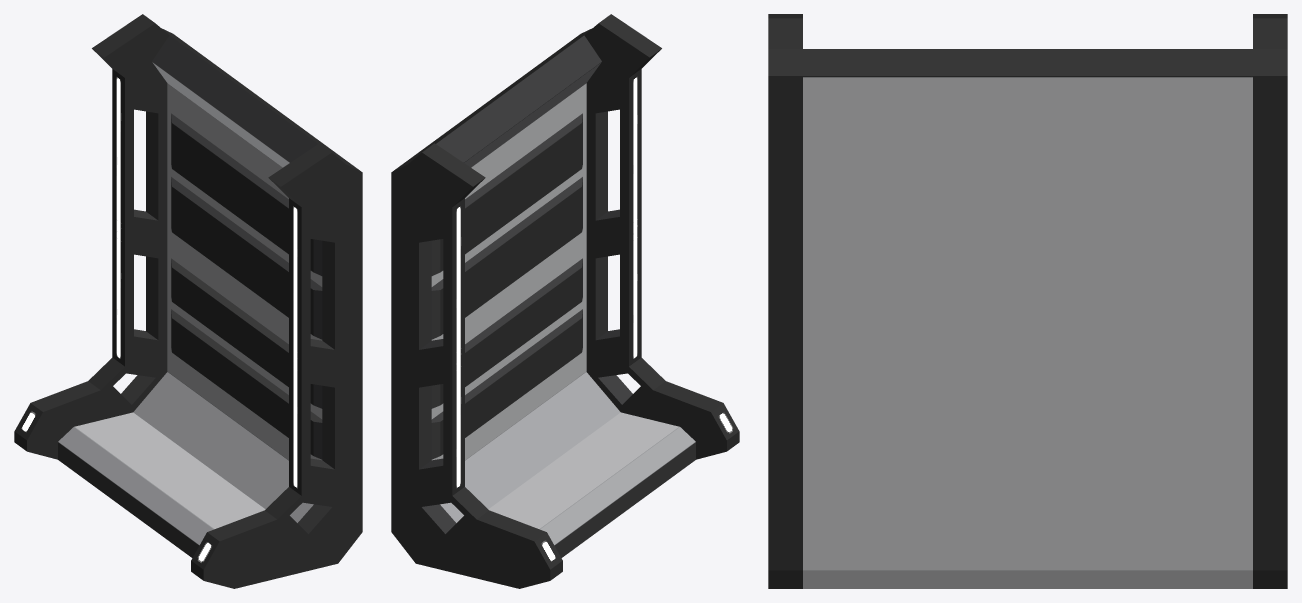
Rendered from Wall02.fbx.
3 renders of one model, left to right at view 1: azimuth 30°, elevation 25°; view 2: azimuth 150°, elevation 25°; view 3: azimuth 270°, elevation 25°, orthographic. The views are drawn at different scales.
Visible parts, largest first — view 1: Wall02; view 2: Wall02; view 3: Wall02.
Part boxes in pixels (<box>): Wall02: <box>14,14,362,588</box>; Wall02: <box>391,14,739,588</box>; Wall02: <box>768,14,1287,588</box>.
Size of the model in its own units: 116 by 289 by 240.
